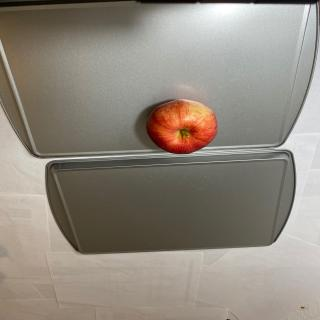Apple: (146, 99, 218, 154)
